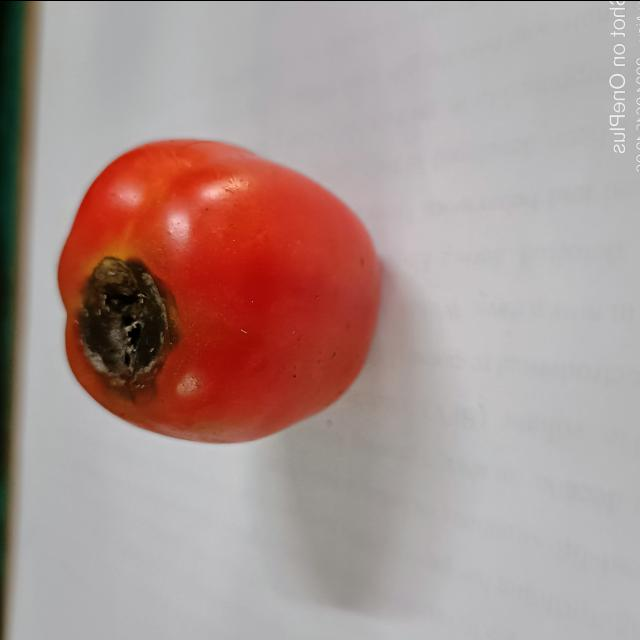Anthrocnose: (73, 258, 175, 392)
